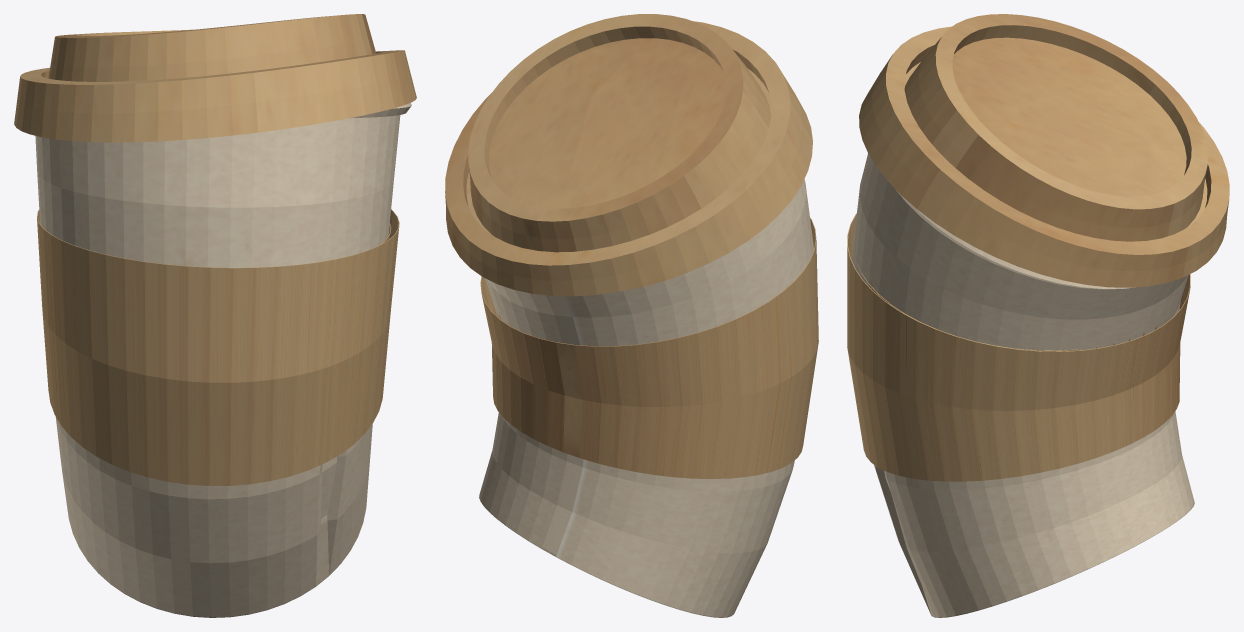
Rendered from bend_high_1.obj.
The picture shows the model from 3 angles, left to right: view 1: azimuth 30°, elevation 25°; view 2: azimuth 150°, elevation 25°; view 3: azimuth 270°, elevation 25°; orthographic projection. The views are drawn at different scales.
Parts seen in each view (by area): view 1: model; view 2: model; view 3: model.
Part boxes in pixels (x1,y1,x2,y2): model: [14, 14, 416, 617]; model: [445, 14, 818, 617]; model: [847, 14, 1229, 617].
Bounding box in the file's own units: 0.0717 × 0.1167 × 0.0715.
1 material, 1 textured.
